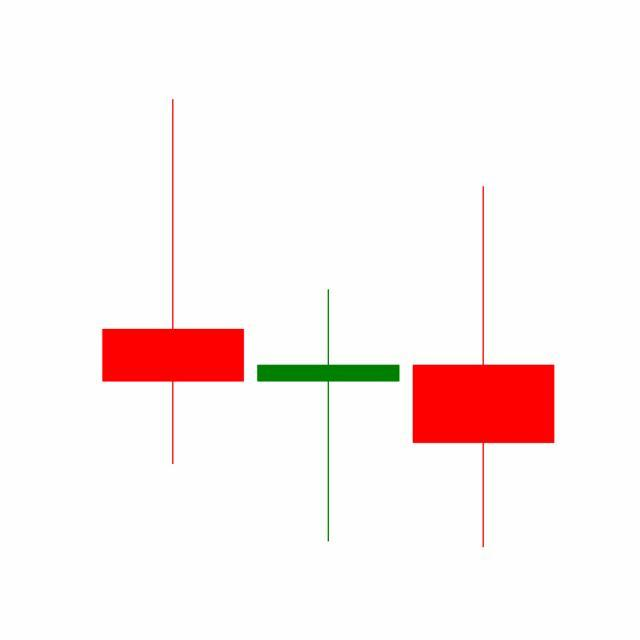Spinning Top: (250, 287, 407, 546)
